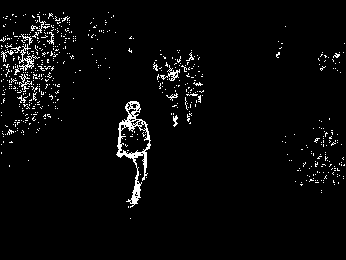person: (116, 99, 149, 207), (157, 67, 182, 127)
